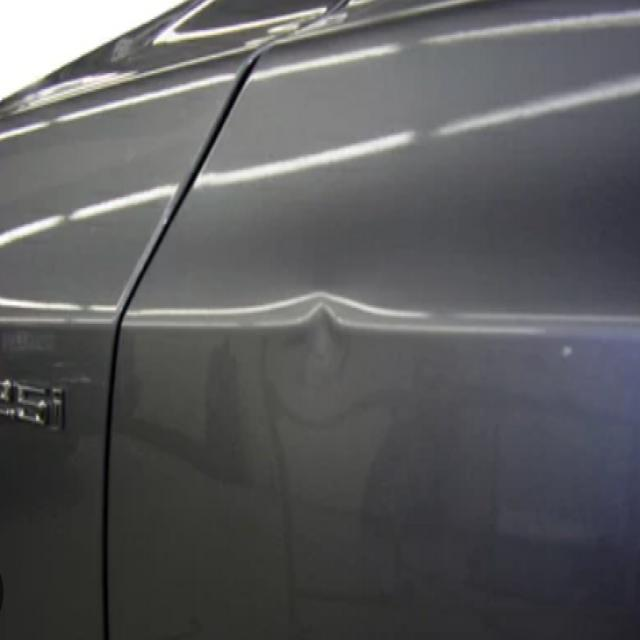dents: (296, 293, 366, 405)
